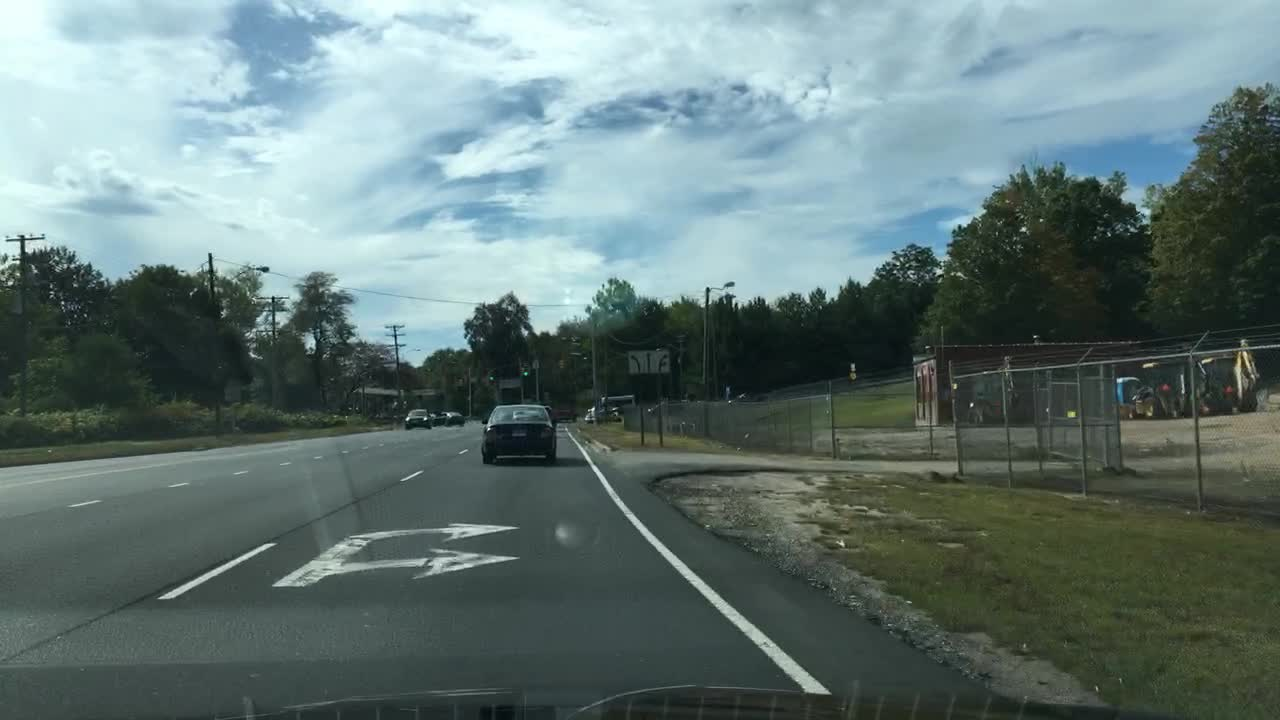car: (1136, 337, 1261, 420), (478, 400, 557, 465), (1104, 373, 1148, 418), (583, 391, 636, 425), (644, 395, 701, 417), (402, 406, 434, 430), (548, 404, 578, 423), (435, 408, 465, 425), (428, 409, 444, 425)
traffic light: (519, 364, 530, 378), (487, 372, 495, 385), (557, 357, 565, 369)
traffic sign: (625, 346, 667, 375), (498, 379, 524, 389), (848, 362, 859, 380), (531, 357, 541, 370)
